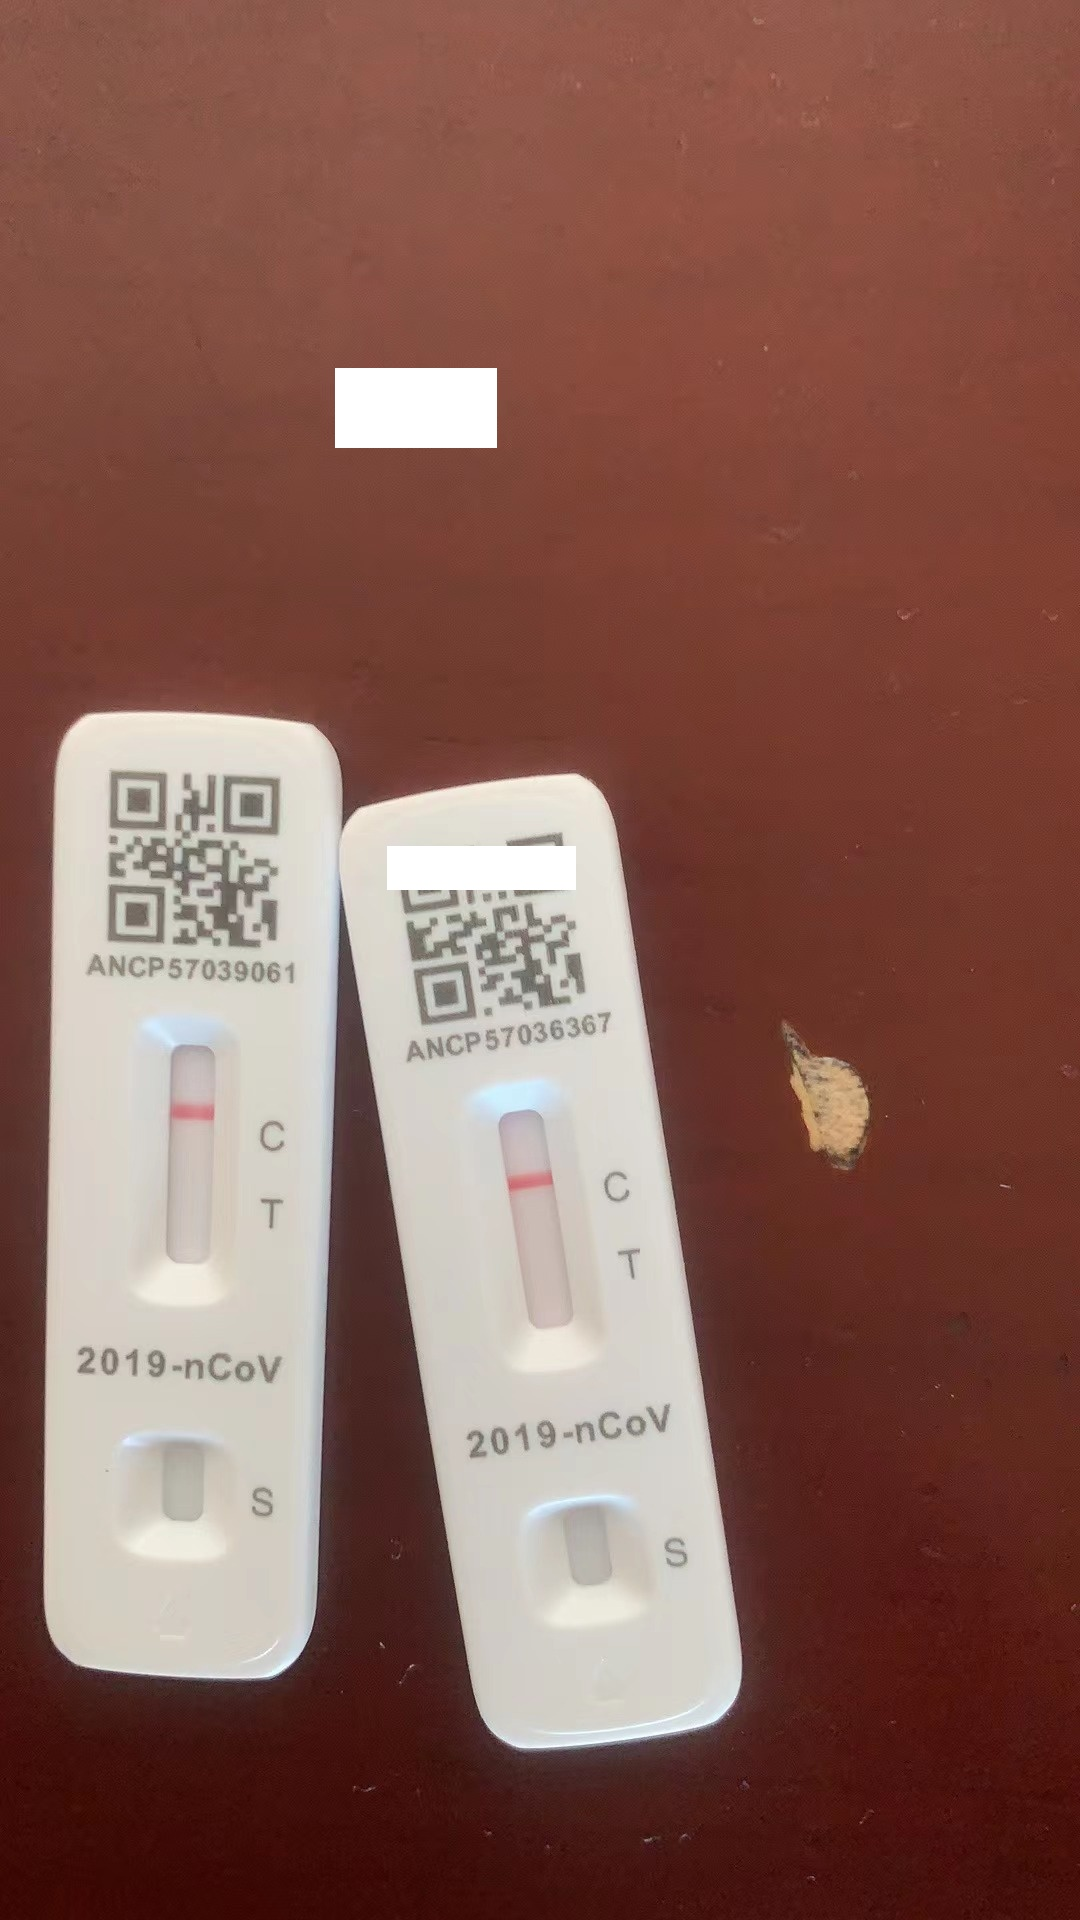negative: (465, 1098, 592, 1364), (138, 1022, 228, 1295)
